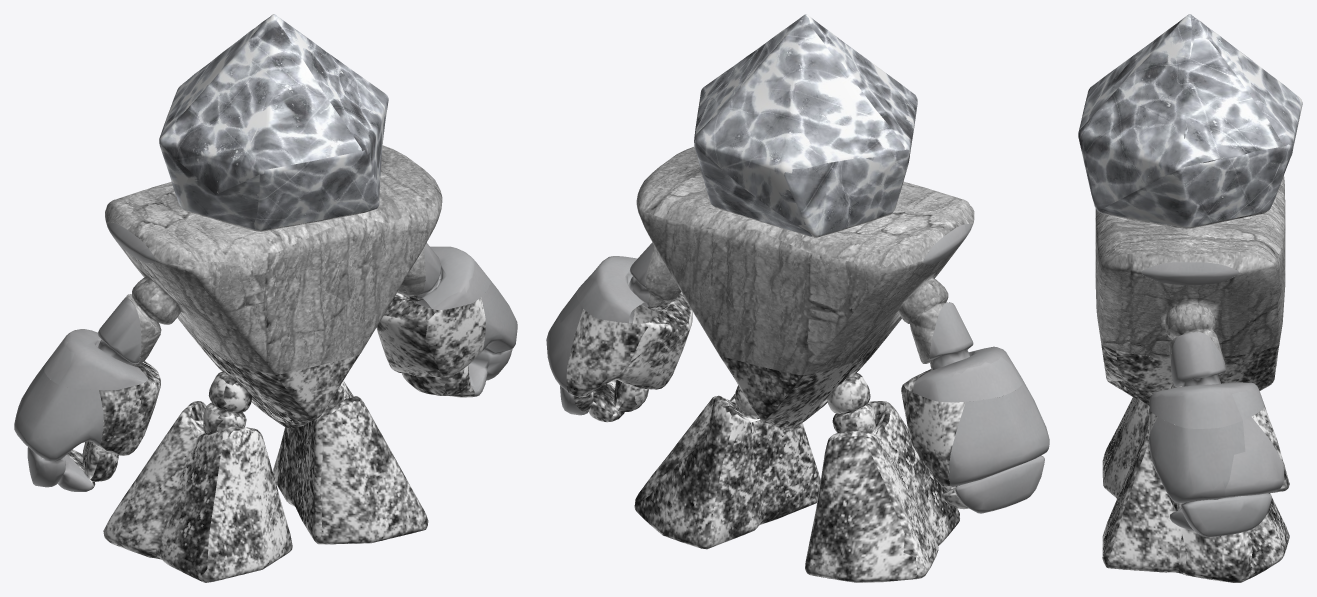
The model's file is 06-ridge-triad--geometric_robot_3d_model1.glb.
3 renders of one model, left to right at view 1: azimuth 30°, elevation 25°; view 2: azimuth 150°, elevation 25°; view 3: azimuth 270°, elevation 25°, orthographic. The views are drawn at different scales.
Visible parts, largest first — view 1: feet_mesh, body_mesh, head_mesh, arms_mesh; view 2: feet_mesh, body_mesh, head_mesh, arms_mesh; view 3: head_mesh, body_mesh, arms_mesh, feet_mesh.
Part boxes in pixels (x1,y1,x2,y2): feet_mesh: (44,293,485,582); body_mesh: (105,145,442,374); head_mesh: (159,14,388,230); arms_mesh: (14,173,517,491); feet_mesh: (566,292,968,582); body_mesh: (636,146,974,375); head_mesh: (694,14,917,236); arms_mesh: (546,177,1049,513); head_mesh: (1078,14,1302,227); body_mesh: (1095,176,1285,376); arms_mesh: (1141,262,1283,537); feet_mesh: (1101,343,1289,582).
Bounding box in the file's own units: 3 × 3 × 1.21.
Materials: 4 (4 with a texture image).
